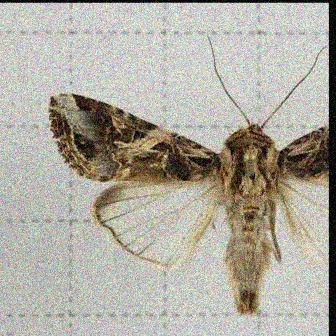Spodoptera litura: (47, 34, 328, 315)
